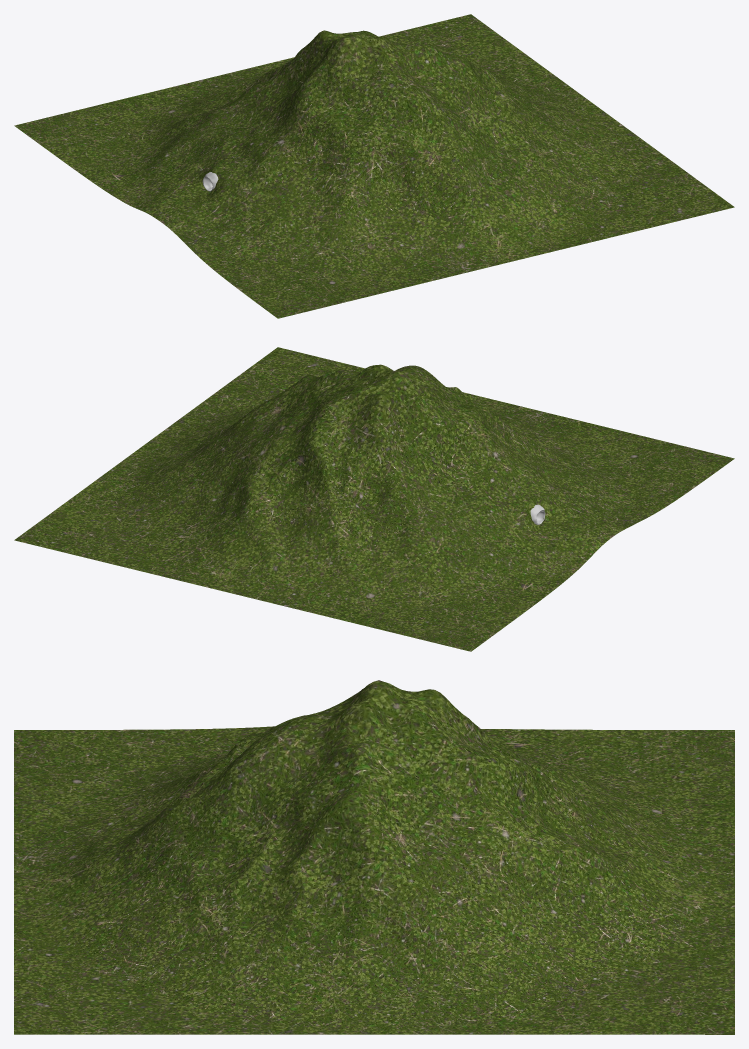
The model's file is Gruta.fbx.
3 views of the same model, one above another, from view 1: azimuth 30°, elevation 25°; view 2: azimuth 150°, elevation 25°; view 3: azimuth 270°, elevation 25° (orthographic). The views are drawn at different scales.
Parts seen in each view (by area): view 1: SaveGruta.003; view 2: SaveGruta.003; view 3: SaveGruta.003.
Part boxes in pixels (x1,y1,x2,y2): SaveGruta.003: (14,14,734,318); SaveGruta.003: (14,347,734,651); SaveGruta.003: (14,680,734,1034).
Bounding box in the file's own units: 28876 × 8096 × 28879.
